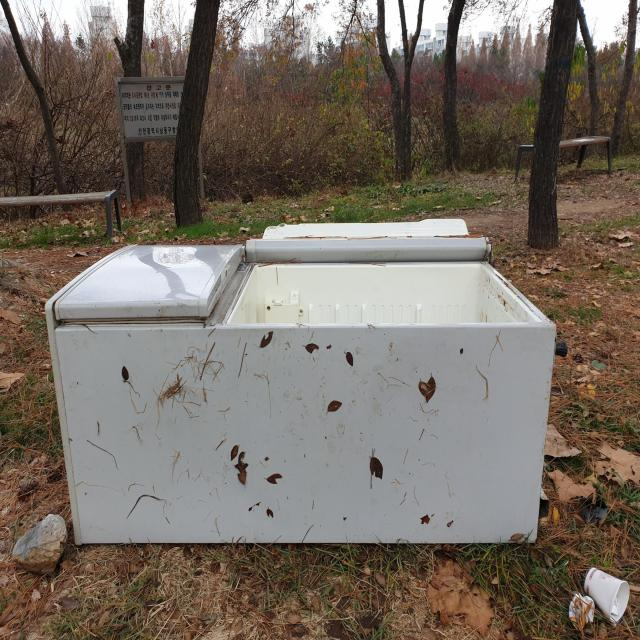refrigerator: (42, 214, 561, 551)
